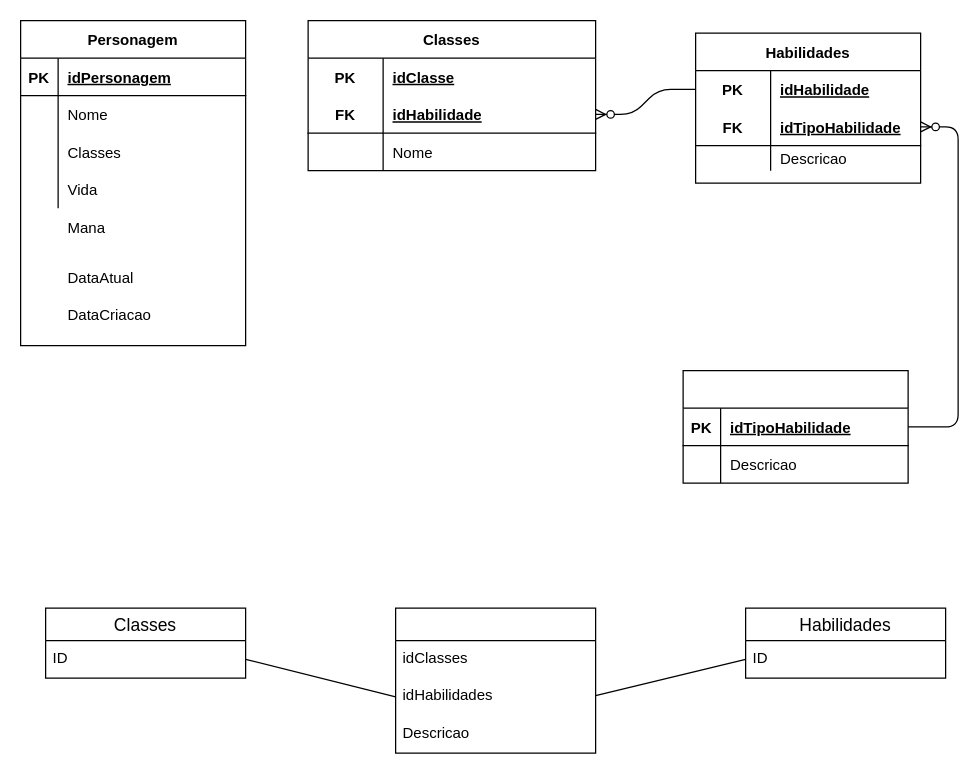
This 979x774 diagram has some shape labels left out. The box of each missing label's shape, as (x1, y1, x2, y2) in pixels:
ClassesHabilidades: (394, 607, 596, 753)
TiposDeHabilidade: (682, 369, 908, 483)
